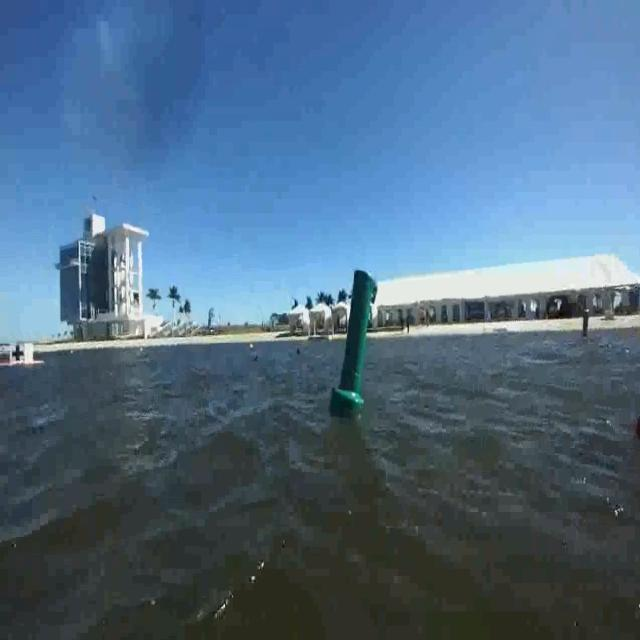green-column-buoy: (333, 270, 378, 411)
